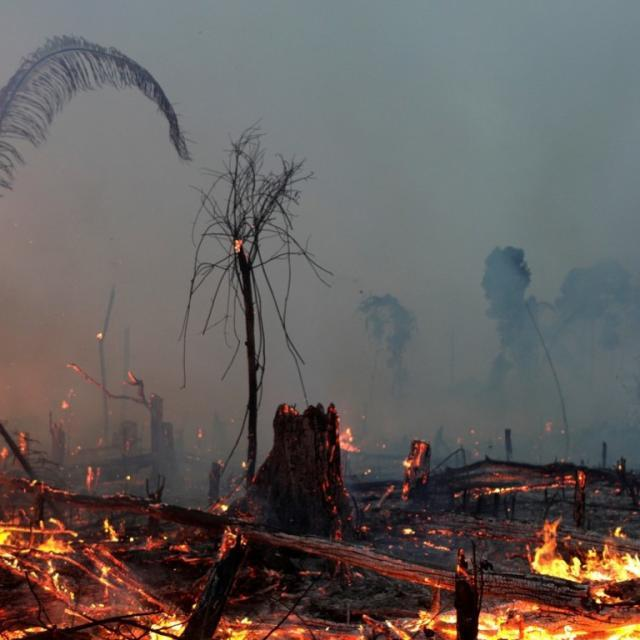Fire: (396, 486, 640, 640), (162, 505, 390, 640), (0, 495, 160, 635)
Smoke: (331, 39, 640, 273), (1, 242, 275, 496), (0, 31, 327, 240), (340, 275, 640, 466)
